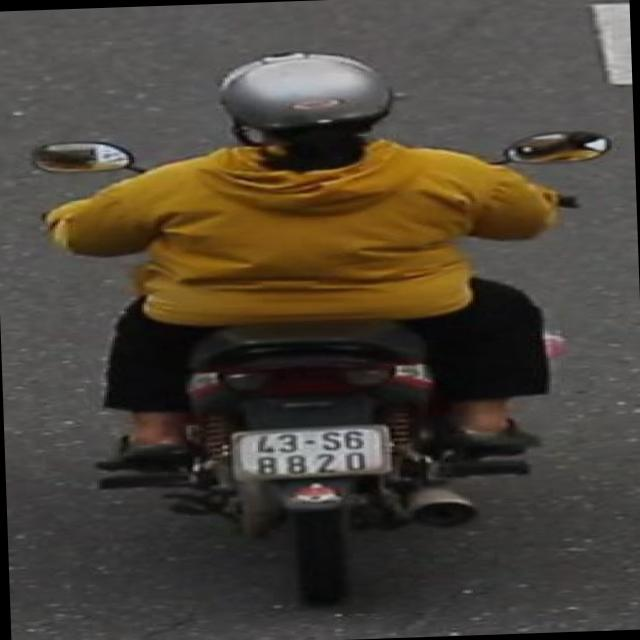LP: (224, 422, 395, 486)
helmet: (212, 44, 405, 158)
